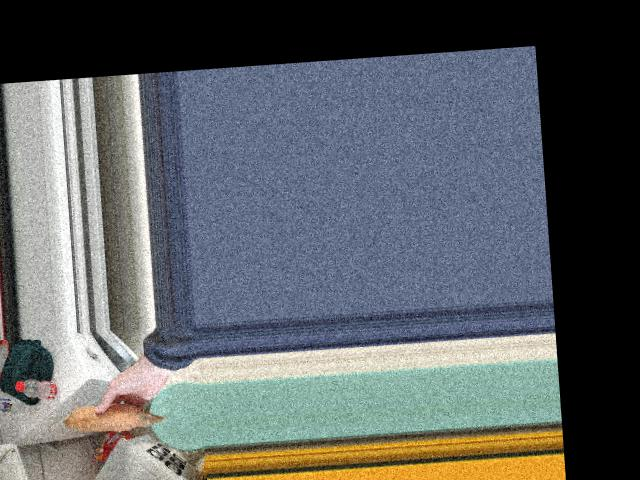sweet_potato: (74, 397, 157, 433)
